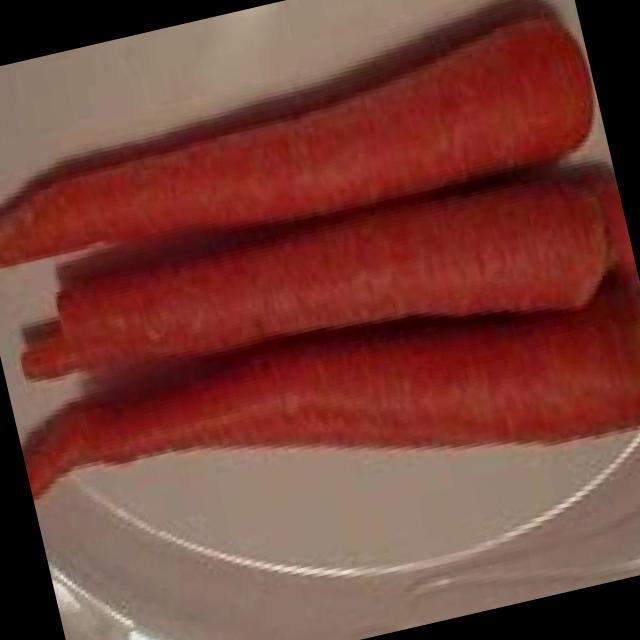carrot: (11, 261, 640, 567), (0, 5, 600, 287), (35, 150, 618, 418)
